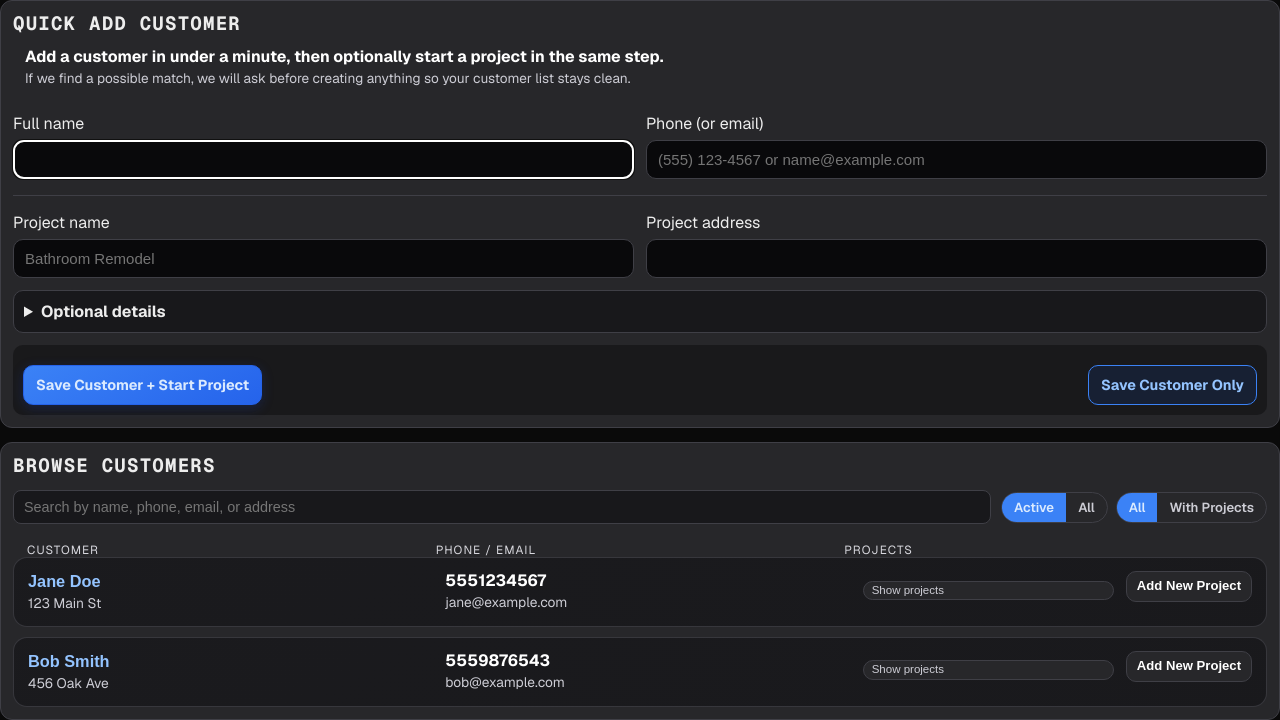
Test case: CustomersConsole › filters customers by project ownership (client-side)
Expected: the button "Jane Doe" is shown, x1=28 y1=572 x2=100 y2=592
Expected: the button "Bob Smith" is shown, x1=28 y1=652 x2=110 y2=672
Step 1. Click the button "With Projects" → (1212, 507), box x1=1157 y1=493 x2=1266 y2=522
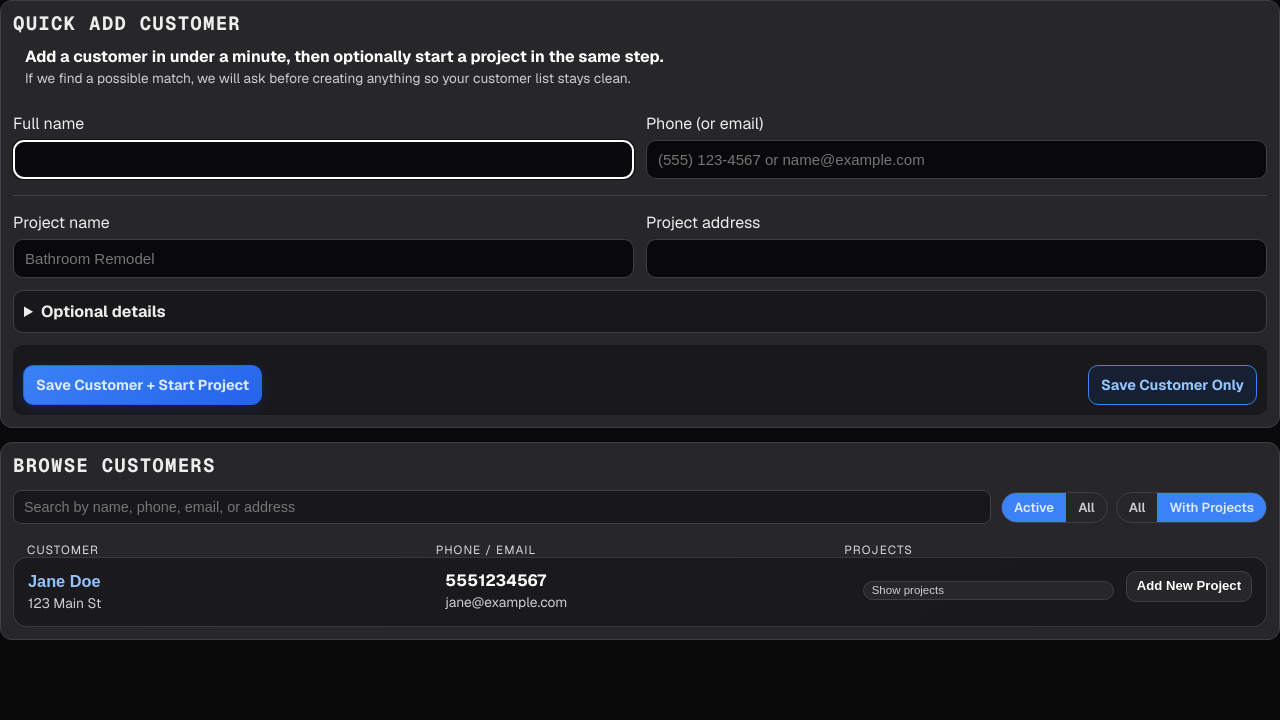
Expected: the button "Jane Doe" is shown, x1=28 y1=572 x2=100 y2=592
Expected: the button "Bob Smith" is gone
